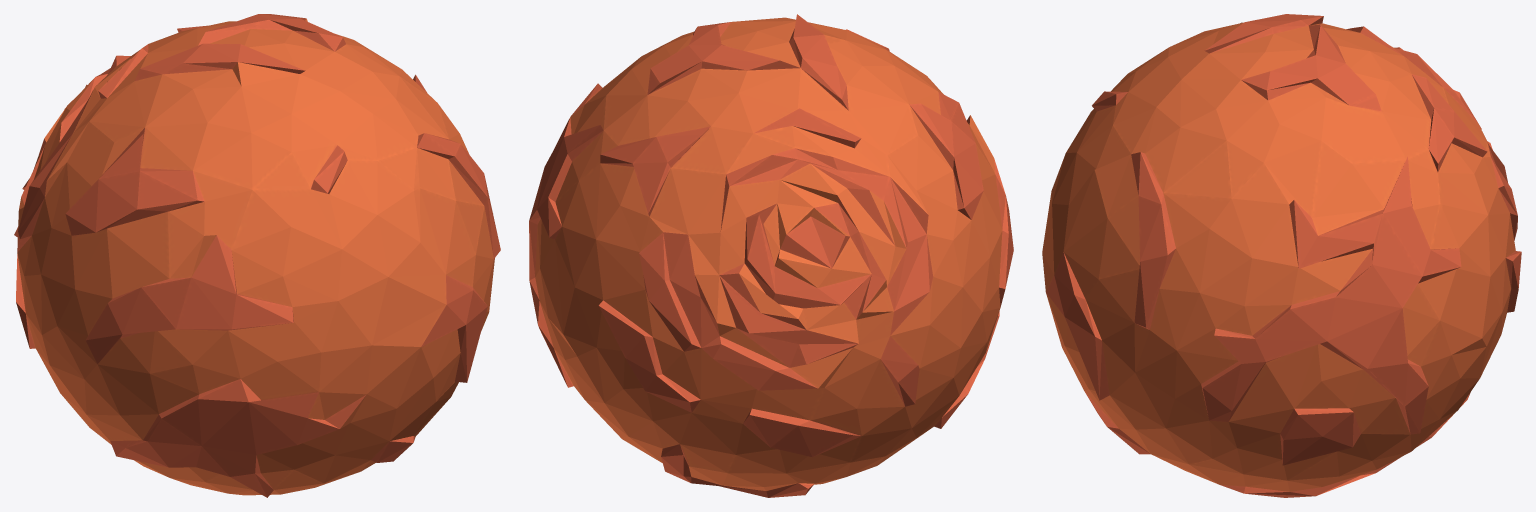
File: Mars.FBX
3 views of the same model, side by side, from view 1: azimuth 30°, elevation 25°; view 2: azimuth 150°, elevation 25°; view 3: azimuth 270°, elevation 25° (orthographic).
Visible parts, largest first — view 1: Mars; view 2: Mars; view 3: Mars.
Boxes of the visible parts, bbox=[...] form: Mars: bbox=[14, 14, 500, 497]; Mars: bbox=[529, 14, 1013, 497]; Mars: bbox=[1042, 14, 1521, 497].
Size of the model in its own units: 0.4261 by 0.4296 by 0.4267.
